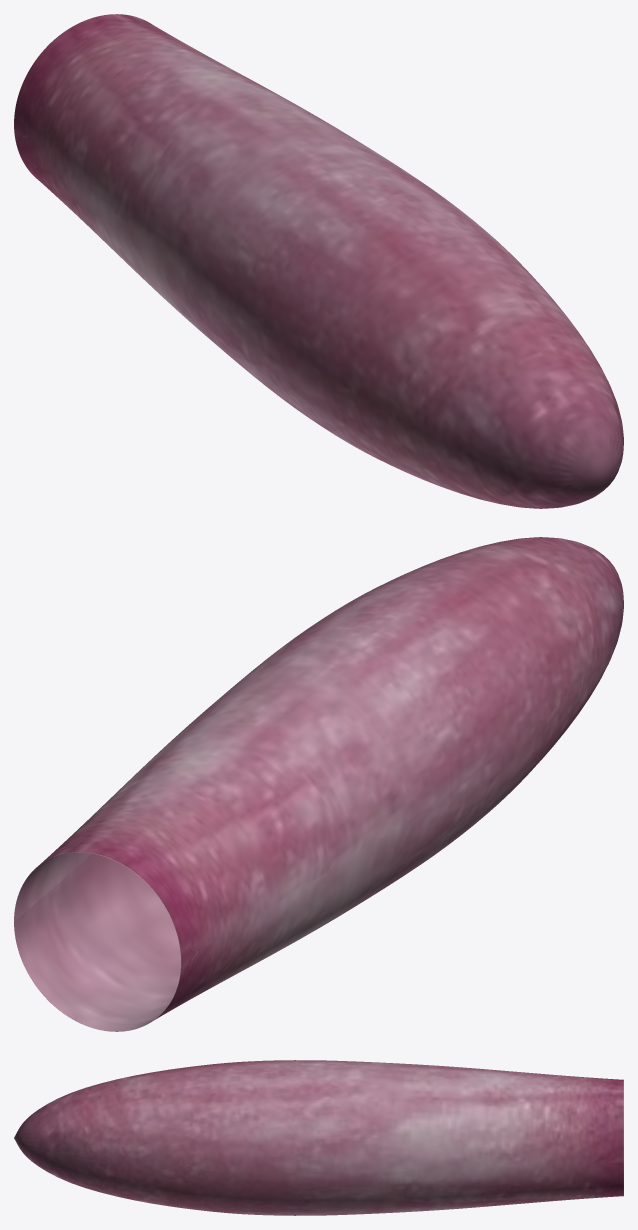
File: RoundRedOnionPeel008.obj
The picture shows the model from 3 angles, top to bottom: view 1: azimuth 30°, elevation 25°; view 2: azimuth 150°, elevation 25°; view 3: azimuth 270°, elevation 25°; orthographic projection. The views are drawn at different scales.
Visible parts, largest first — view 1: RoundRedOnionPeel008; view 2: RoundRedOnionPeel008; view 3: RoundRedOnionPeel008.
Boxes of the visible parts, x1,y1,x2,y2 form: RoundRedOnionPeel008: (14, 14, 623, 508); RoundRedOnionPeel008: (14, 537, 623, 1031); RoundRedOnionPeel008: (14, 1060, 623, 1215).
Size of the model in its own units: 0.0165 by 0.0165 by 0.0648.
1 material, 1 textured.
